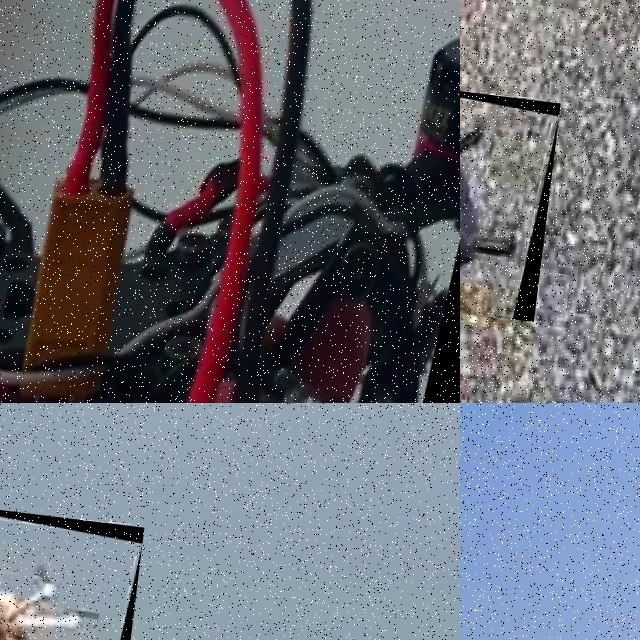drone: (0, 0, 460, 403), (460, 79, 560, 322), (0, 498, 144, 640)
